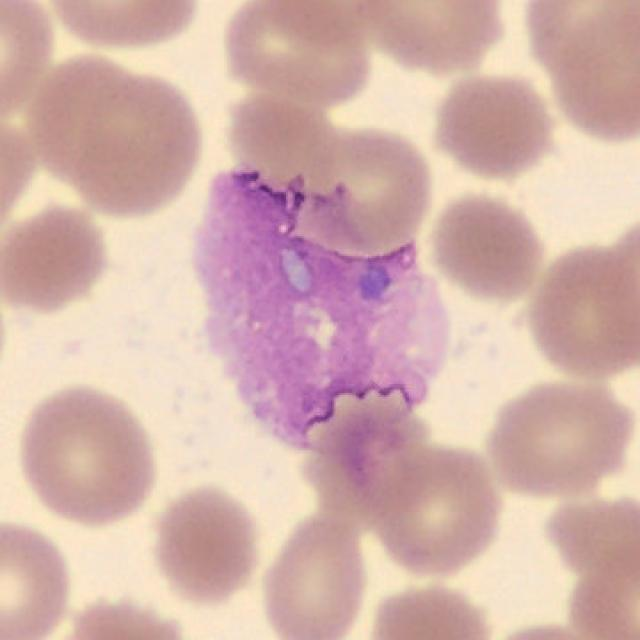Restos celulares: (194, 168, 450, 472)
